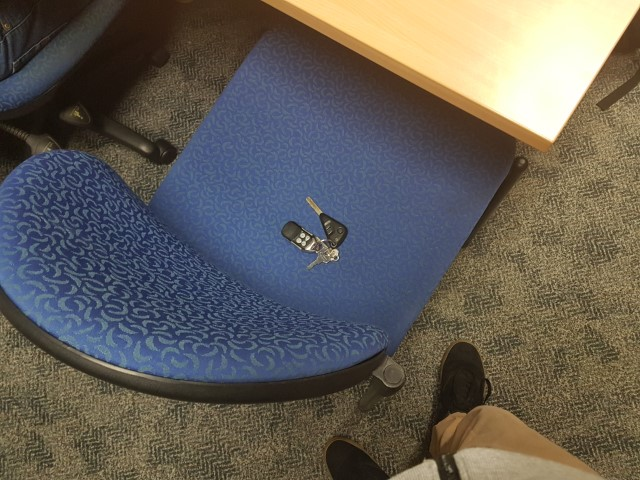key: (305, 196, 349, 249)
